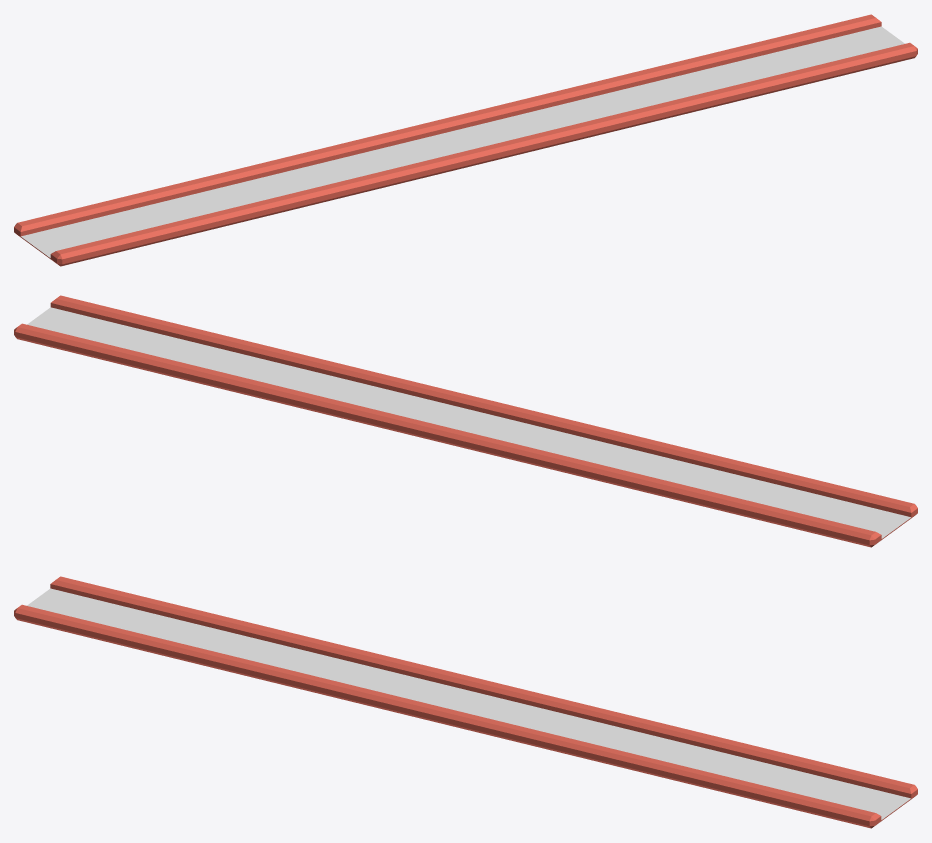
The model's file is ConveyorBelt2.fbx.
3 views of the same model, one above another, from view 1: azimuth 30°, elevation 25°; view 2: azimuth 150°, elevation 25°; view 3: azimuth 330°, elevation 25° (orthographic).
Parts seen in each view (by area): view 1: Cube; view 2: Cube; view 3: Cube.
Boxes of the visible parts, <box> form: Cube: <box>14,14,917,266</box>; Cube: <box>14,295,917,547</box>; Cube: <box>14,576,917,828</box>.
Bounding box in the file's own units: 7400 × 100 × 700.
